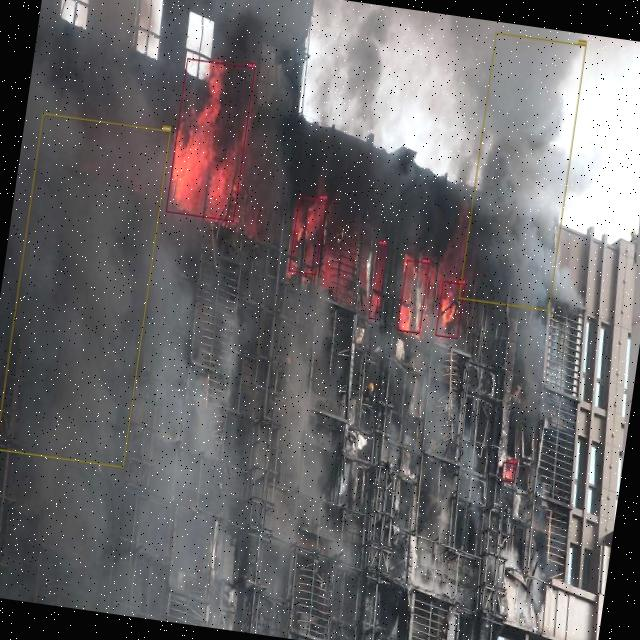fire: (167, 58, 256, 222), (289, 196, 327, 275), (396, 259, 429, 334), (436, 280, 466, 340), (368, 243, 386, 320), (500, 462, 518, 484)
smoke: (0, 112, 171, 468), (458, 32, 586, 312)
